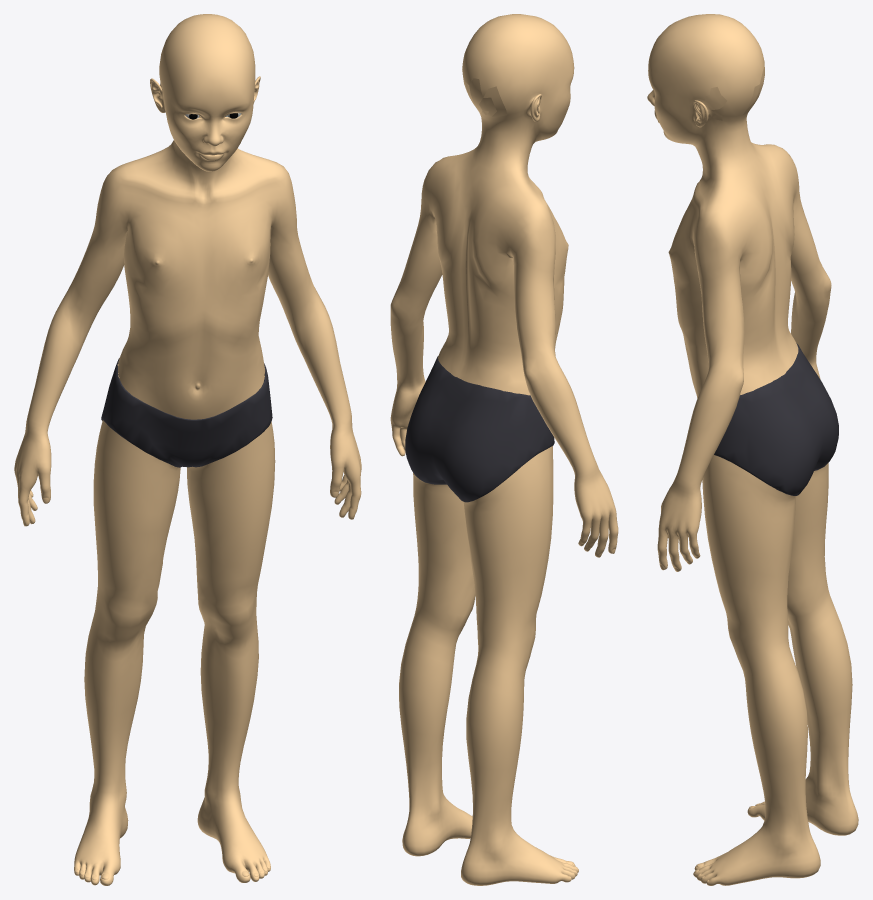
The model's file is boy.glb.
3 views of the same model, side by side, from view 1: azimuth 30°, elevation 25°; view 2: azimuth 150°, elevation 25°; view 3: azimuth 270°, elevation 25° (orthographic). The views are drawn at different scales.
Parts seen in each view (by area): view 1: FreeAll.001, FreeAll.002; view 2: FreeAll.001, FreeAll.002; view 3: FreeAll.001, FreeAll.002.
Boxes of the visible parts, x1,y1,x2,y2 form: FreeAll.001: (14, 14, 361, 885); FreeAll.002: (101, 358, 272, 467); FreeAll.001: (390, 14, 618, 885); FreeAll.002: (405, 356, 554, 502); FreeAll.001: (647, 14, 858, 885); FreeAll.002: (714, 343, 838, 495).
Size of the model in its own units: 2.47 by 7.08 by 1.61.
6 materials, 1 textured.
